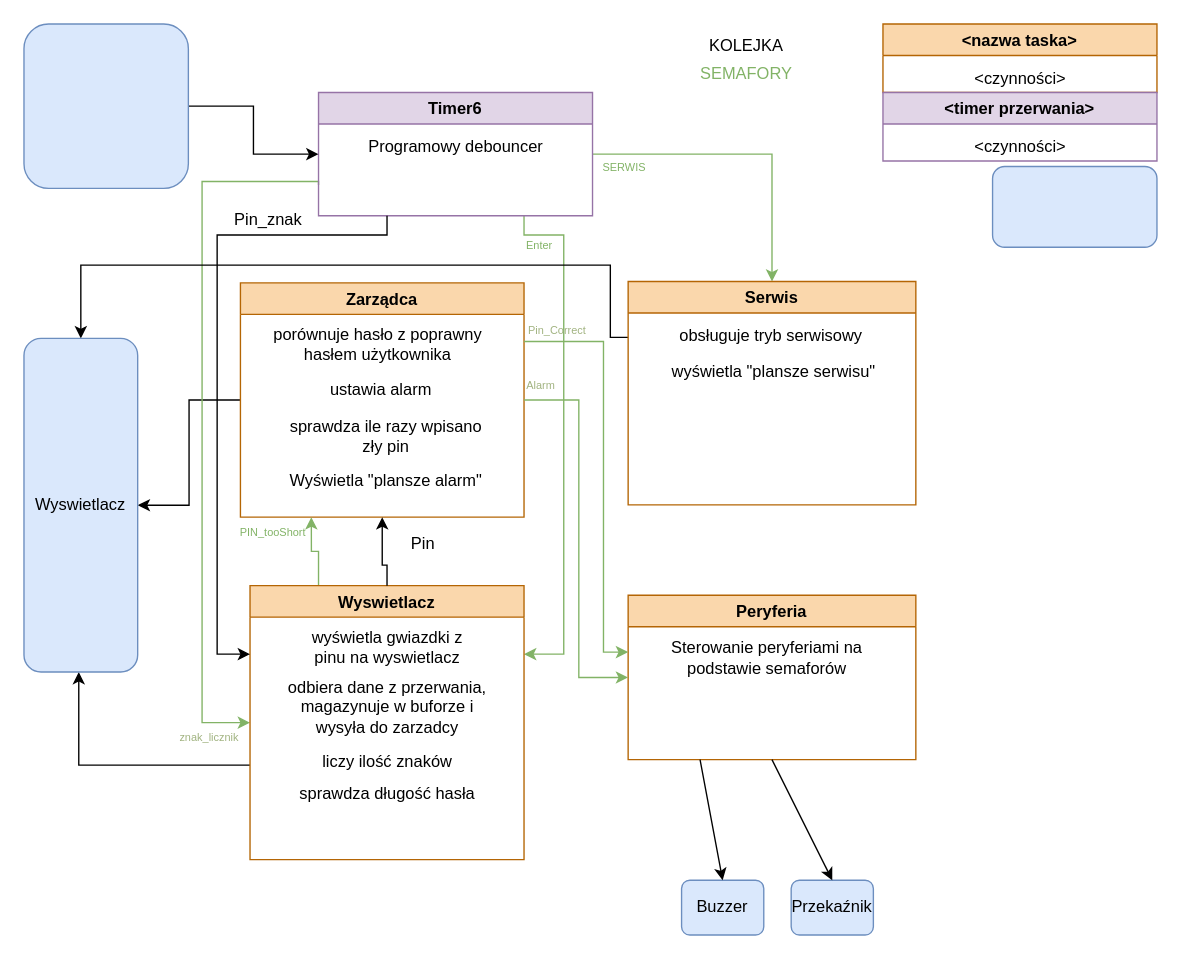
The diagram is 1181 pixels wide and 959 high, and some of its shapes have lost their labels. Here are the shapes that lost their labels. From the top down, the centre of each, then its label:
At (x=105, y=105): "KLAWIATURA".
At (x=1074, y=206): "Peryferia zewnętrzne".
